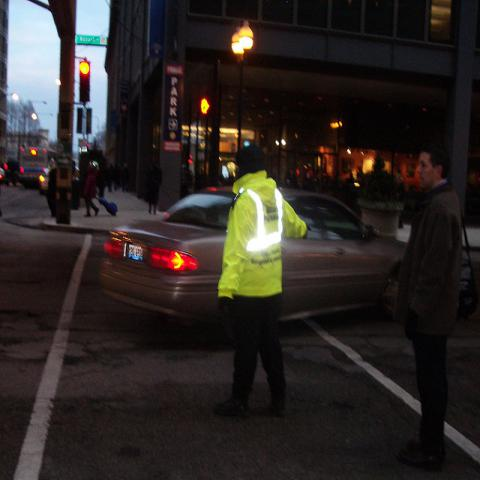bus: (19, 148, 72, 184)
car: (100, 183, 407, 344)
